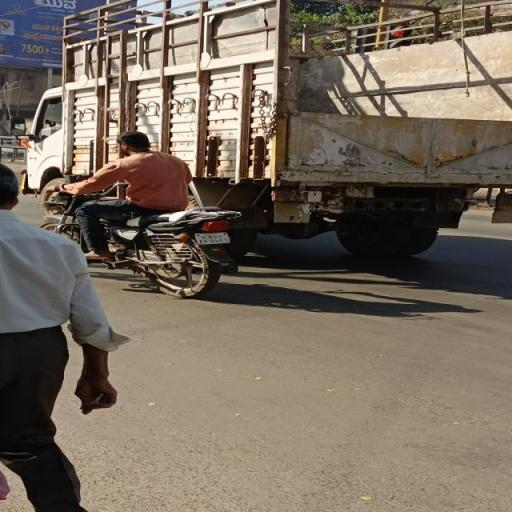bike: (30, 130, 252, 298)
numberplate: (195, 231, 231, 246)
withouthelmet: (119, 132, 147, 152)
